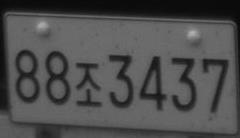3: (108, 54, 134, 108), (171, 56, 196, 111)
4: (139, 55, 167, 111)
7: (202, 58, 229, 112)
8: (14, 48, 40, 103), (45, 50, 70, 105)
조: (75, 62, 102, 107)
